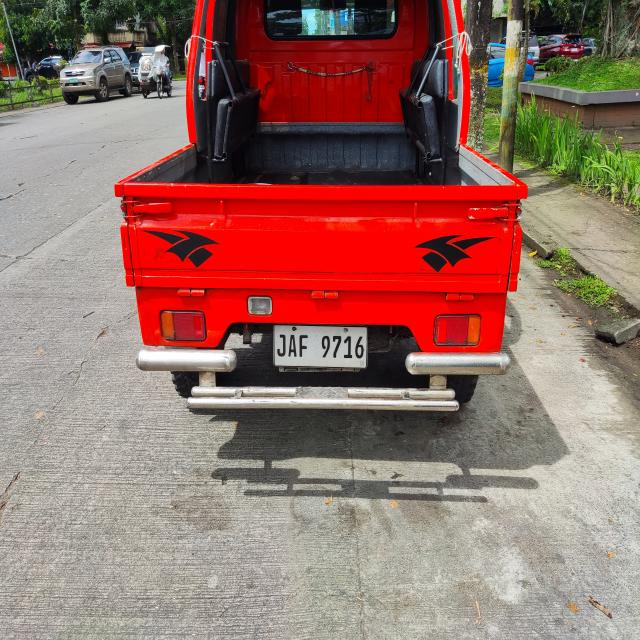plate: (272, 323, 368, 370)
